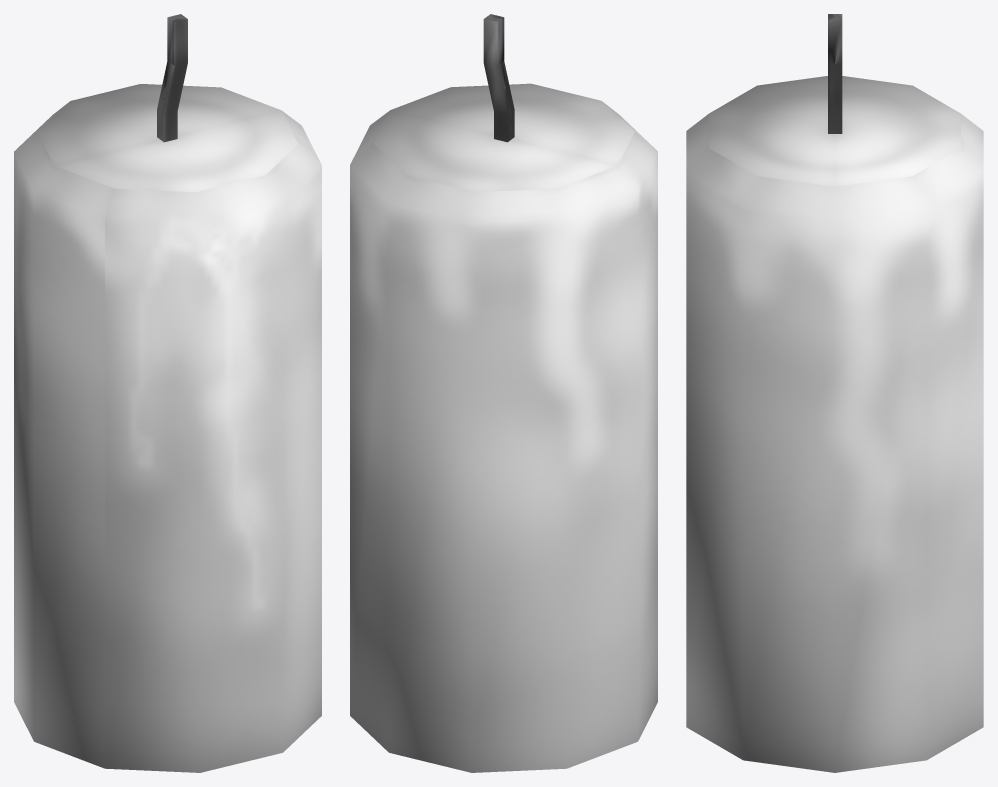
The model's file is TianZhuJiaoTang_01_lazhu_01.FBX.
The picture shows the model from 3 angles, left to right: view 1: azimuth 30°, elevation 25°; view 2: azimuth 150°, elevation 25°; view 3: azimuth 270°, elevation 25°; orthographic projection.
Visible parts, largest first — view 1: TianZhuJiaoTang_01_lazhu_01; view 2: TianZhuJiaoTang_01_lazhu_01; view 3: TianZhuJiaoTang_01_lazhu_01.
Part boxes in pixels (left/top/right/bottom): TianZhuJiaoTang_01_lazhu_01: left=14, top=14, right=321, bottom=772; TianZhuJiaoTang_01_lazhu_01: left=350, top=14, right=657, bottom=772; TianZhuJiaoTang_01_lazhu_01: left=686, top=14, right=983, bottom=772.
Size of the model in its own units: 49.71 by 122 by 47.28.
